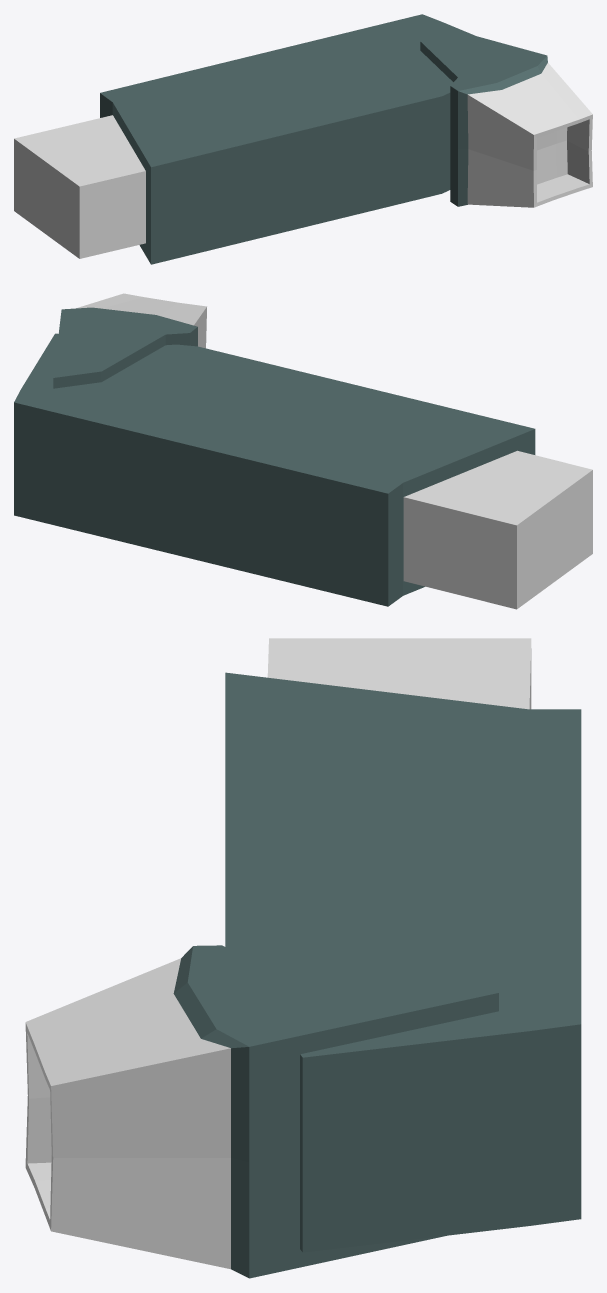
Rendered from inhalator.fbx.
3 renders of one model, top to bottom at view 1: azimuth 30°, elevation 25°; view 2: azimuth 150°, elevation 25°; view 3: azimuth 270°, elevation 25°, orthographic. The views are drawn at different scales.
Visible parts, largest first — view 1: Plane; view 2: Plane; view 3: Plane.
Part boxes in pixels (bbox=[...]): Plane: bbox=[14, 14, 592, 264]; Plane: bbox=[14, 293, 592, 609]; Plane: bbox=[25, 638, 581, 1278].
Size of the model in its own units: 9.81 by 2.34 by 5.1.
